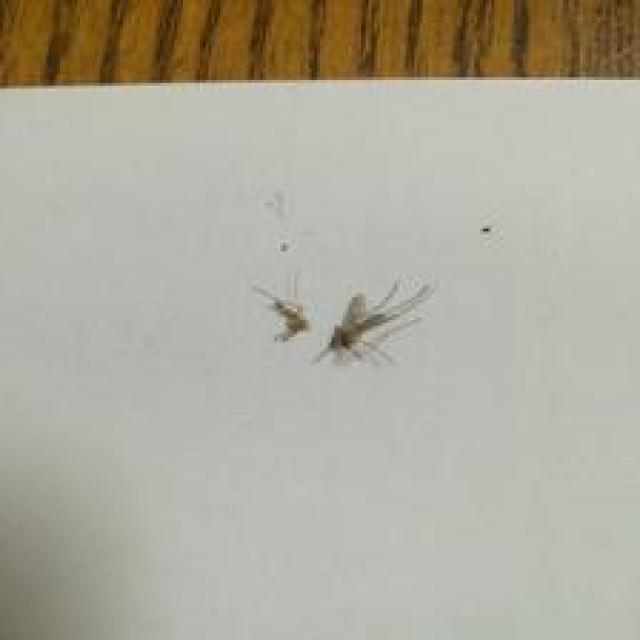Culex: (312, 277, 434, 369)
